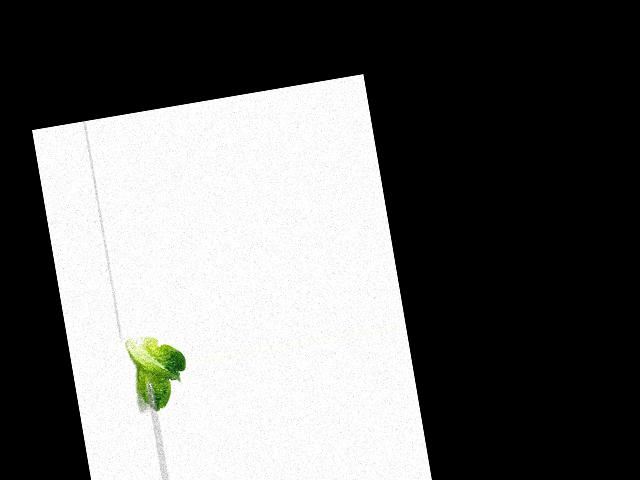lettuce: (127, 327, 193, 416)
